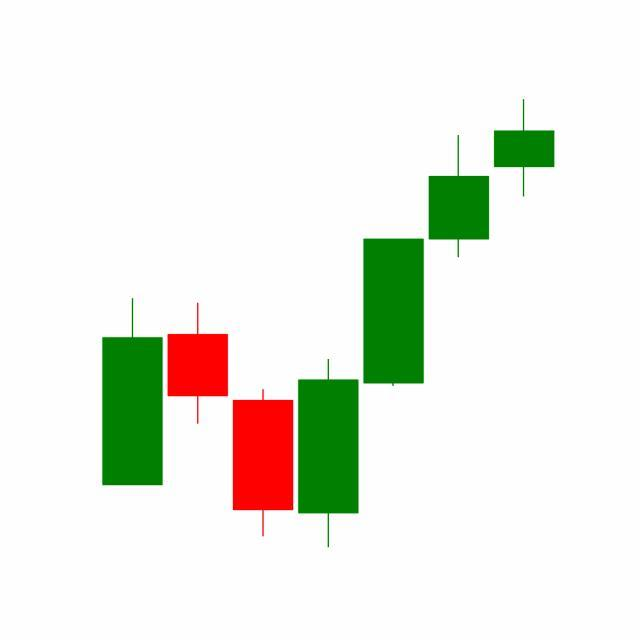Advance Block: (360, 100, 556, 392)
